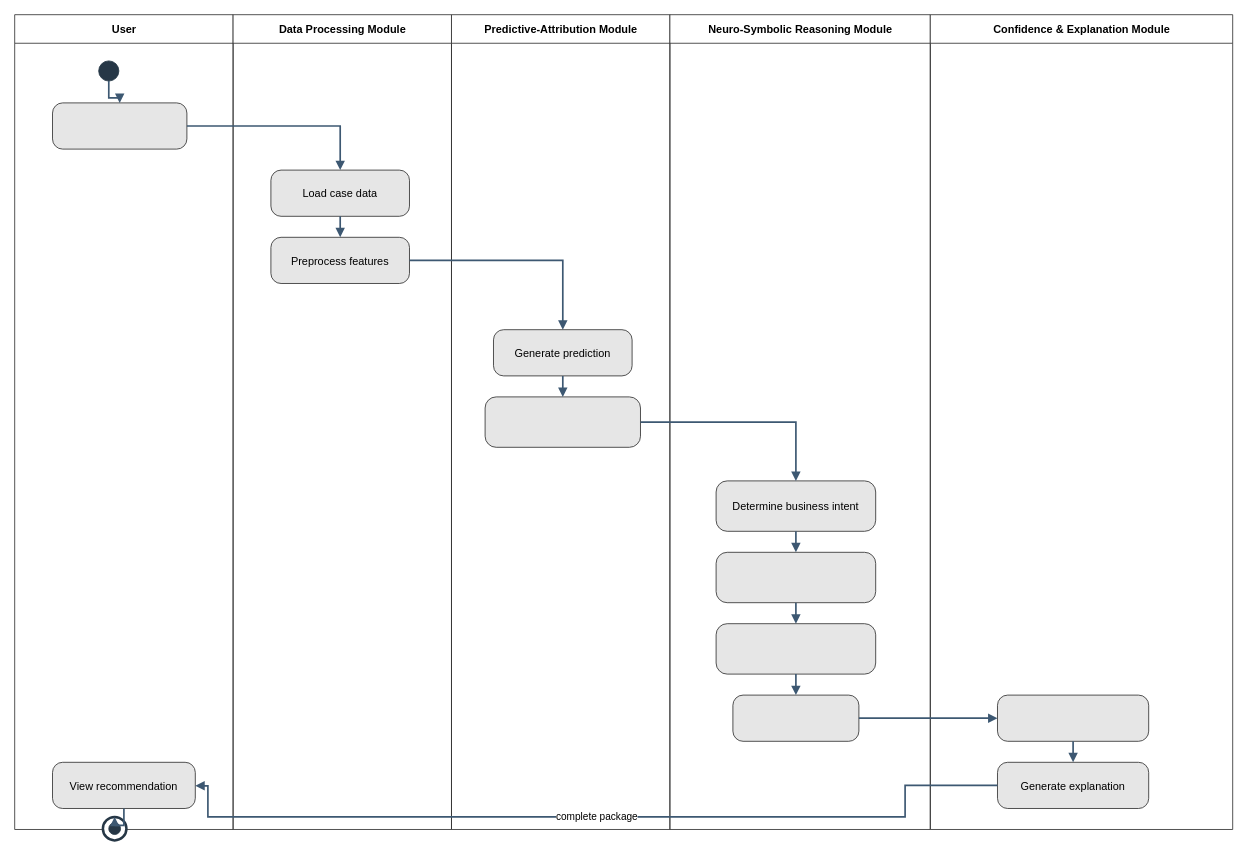
Some shapes in this 1247 by 856 pixel diagram are drawn without their labels. The centre of each missing label's shape, as x and y in pixels:
"Apply weighted soft rules" belongs at [795,648].
"Calibrate confidence" belongs at [1073,717].
"Compute attribution scores" belongs at [562,421].
"Generate candidate actions" belongs at [795,577].
"Rank actions" belongs at [795,717].
"Select decision case" belongs at [119,125].
